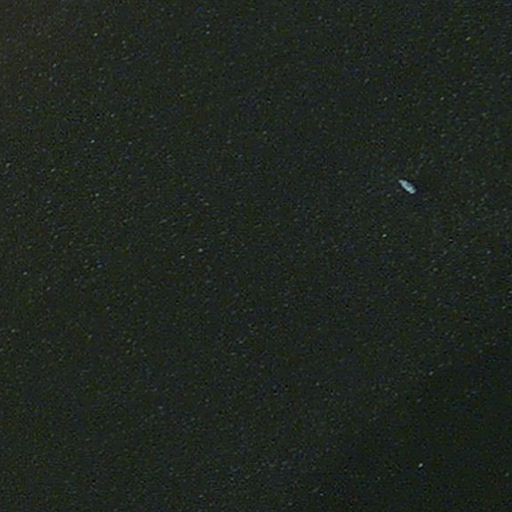ship: (395, 174, 420, 199)
